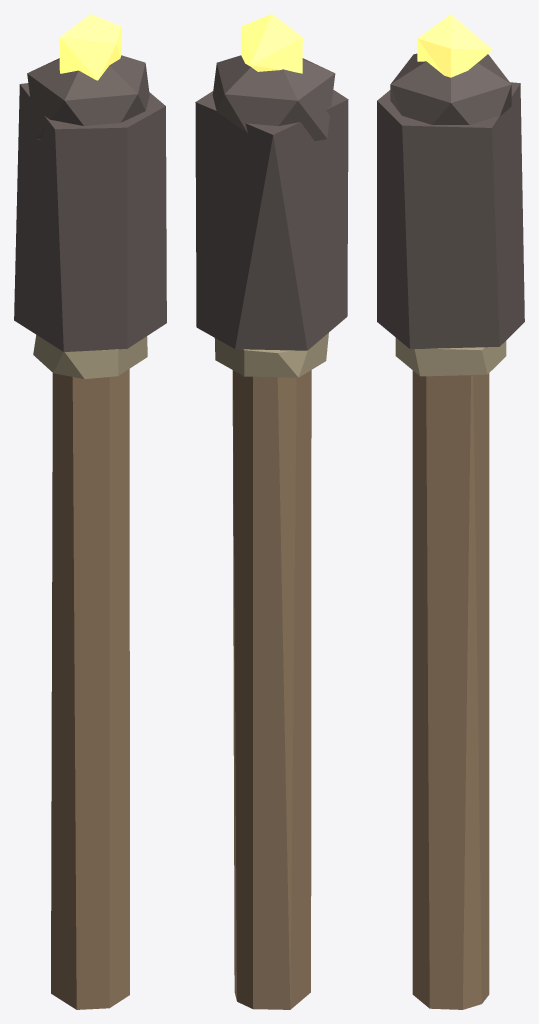
Rendered from 13-Herramientas_antorcha_mano.glb.
The picture shows the model from 3 angles, left to right: view 1: azimuth 30°, elevation 25°; view 2: azimuth 150°, elevation 25°; view 3: azimuth 270°, elevation 25°; orthographic projection.
Parts seen in each view (by area): view 1: SM_Antorcha_M_Madera_Antorcha, SM_Antorcha_M_Tela_Carbonizada, SM_Antorcha_M_Brasa_Antorcha, SM_Antorcha_M_Cordel_Antorcha; view 2: SM_Antorcha_M_Madera_Antorcha, SM_Antorcha_M_Tela_Carbonizada, SM_Antorcha_M_Brasa_Antorcha, SM_Antorcha_M_Cordel_Antorcha; view 3: SM_Antorcha_M_Madera_Antorcha, SM_Antorcha_M_Tela_Carbonizada, SM_Antorcha_M_Brasa_Antorcha, SM_Antorcha_M_Cordel_Antorcha.
Part boxes in pixels (box(x1,y1,x2,y2)): SM_Antorcha_M_Madera_Antorcha: box(51, 369, 129, 1009); SM_Antorcha_M_Tela_Carbonizada: box(14, 55, 166, 351); SM_Antorcha_M_Brasa_Antorcha: box(59, 14, 121, 80); SM_Antorcha_M_Cordel_Antorcha: box(33, 335, 147, 378); SM_Antorcha_M_Madera_Antorcha: box(232, 370, 311, 1009); SM_Antorcha_M_Tela_Carbonizada: box(195, 55, 348, 350); SM_Antorcha_M_Brasa_Antorcha: box(241, 14, 302, 73); SM_Antorcha_M_Cordel_Antorcha: box(214, 333, 328, 377); SM_Antorcha_M_Madera_Antorcha: box(412, 370, 489, 1009); SM_Antorcha_M_Tela_Carbonizada: box(377, 53, 524, 349); SM_Antorcha_M_Brasa_Antorcha: box(417, 14, 492, 77); SM_Antorcha_M_Cordel_Antorcha: box(395, 337, 506, 376).
Size of the model in its own units: 0.0979 by 0.82 by 0.112.
